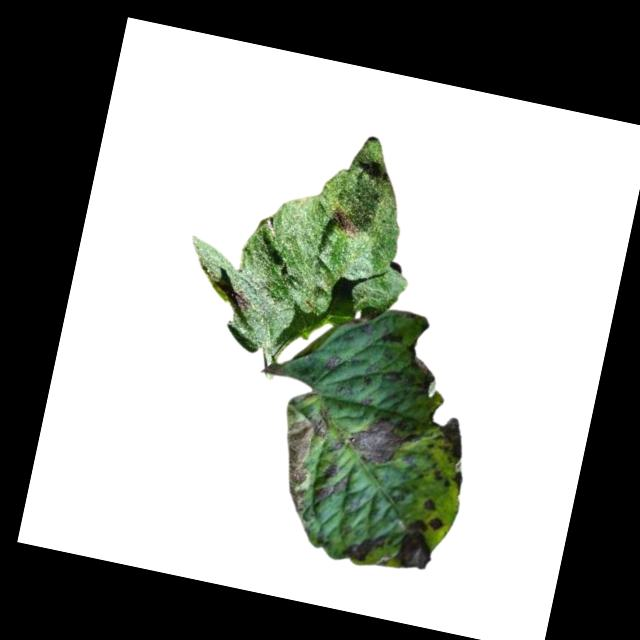Early_blight: (265, 398, 333, 520), (339, 405, 420, 472), (389, 514, 438, 572), (425, 413, 469, 467), (339, 524, 388, 568), (314, 460, 351, 509), (324, 201, 364, 239), (433, 465, 467, 492), (228, 286, 253, 313), (378, 327, 406, 347), (320, 351, 340, 373), (426, 514, 443, 531), (421, 496, 438, 512)
